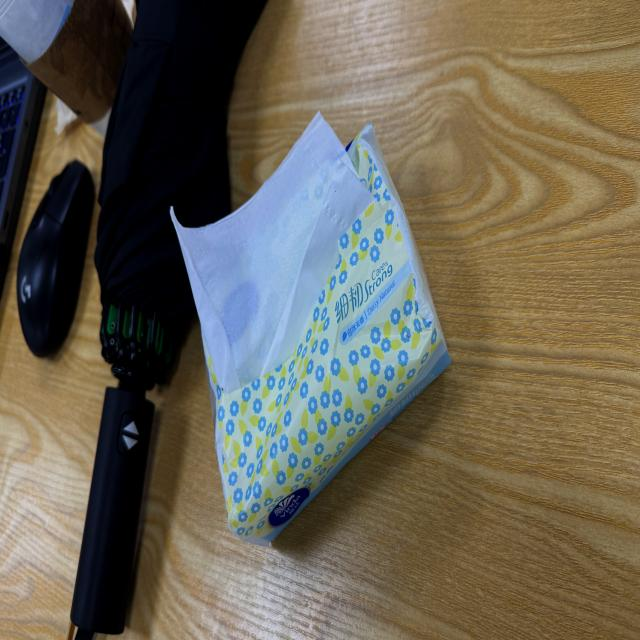tissue: (172, 115, 449, 544), (172, 114, 373, 392)
